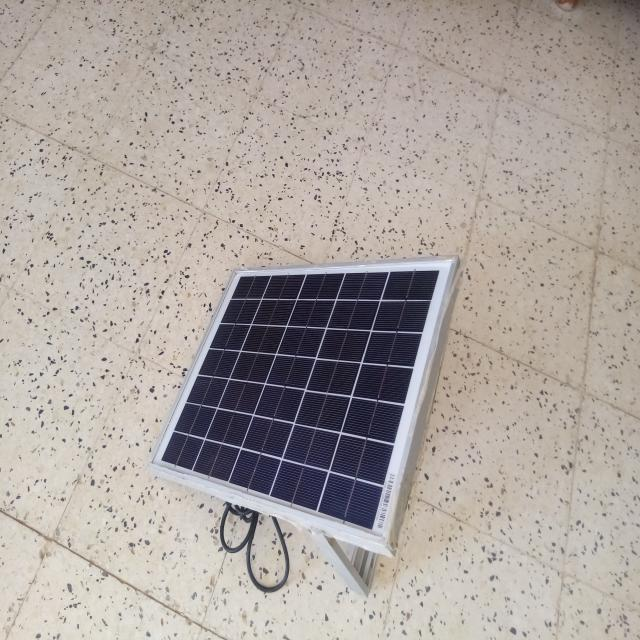no faulty: (149, 256, 458, 546)
